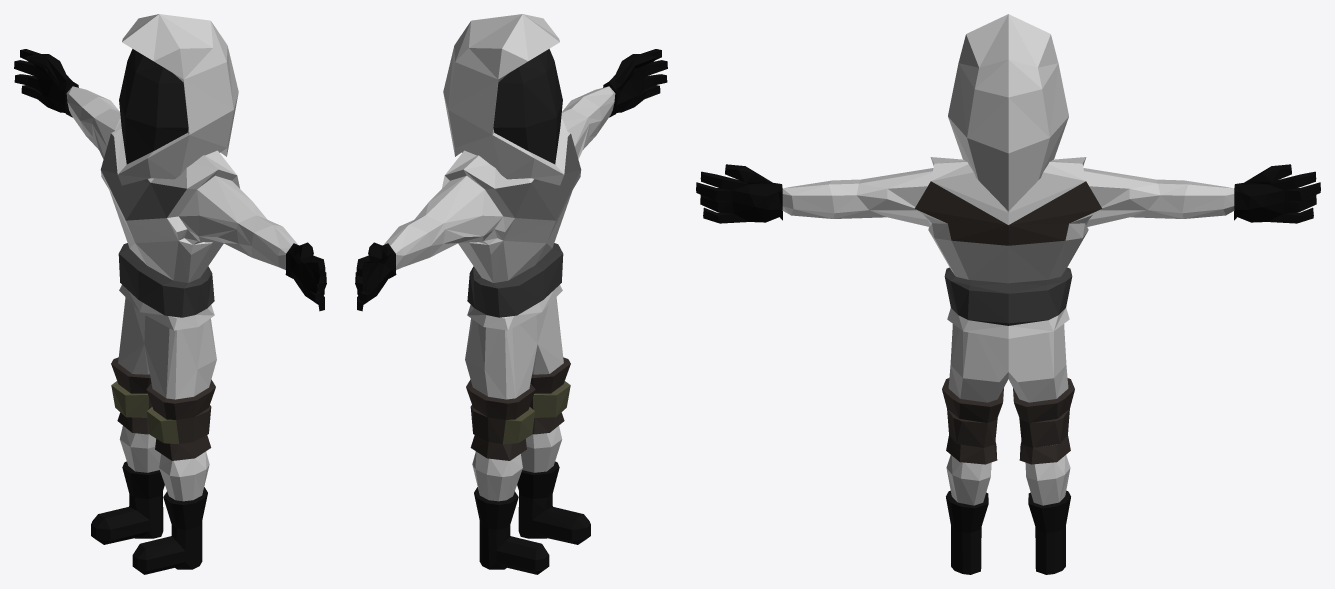
The model's file is Troops.obj.
3 views of the same model, side by side, from view 1: azimuth 30°, elevation 25°; view 2: azimuth 150°, elevation 25°; view 3: azimuth 270°, elevation 25° (orthographic). The views are drawn at different scales.
Parts seen in each view (by area): view 1: Cube; view 2: Cube; view 3: Cube.
Part boxes in pixels (left/top/right/bottom): Cube: left=14, top=14, right=326, bottom=574; Cube: left=355, top=14, right=667, bottom=574; Cube: left=696, top=14, right=1320, bottom=574.
Bounding box in the file's own units: 2.16 × 8.88 × 9.15.
